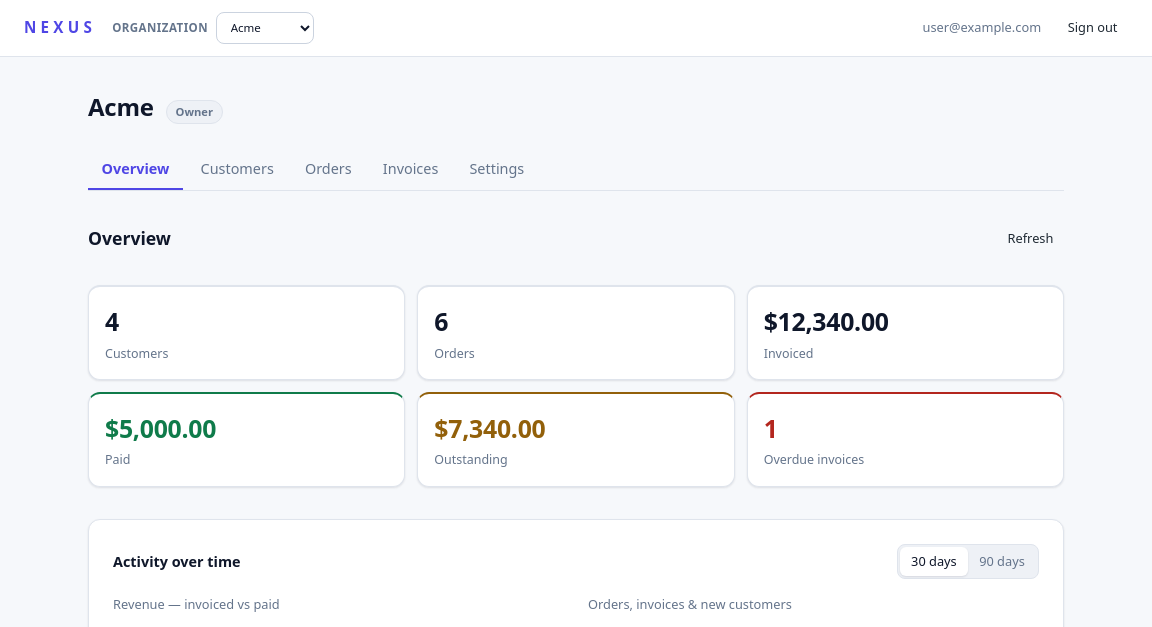
a manual Refresh started for one organization cannot overwrite another after a switch
Check: the text "$12,340.00" is shown, box [764,304,889,338]
Click the button "Refresh" at (1030,238), box [997,223,1064,253]
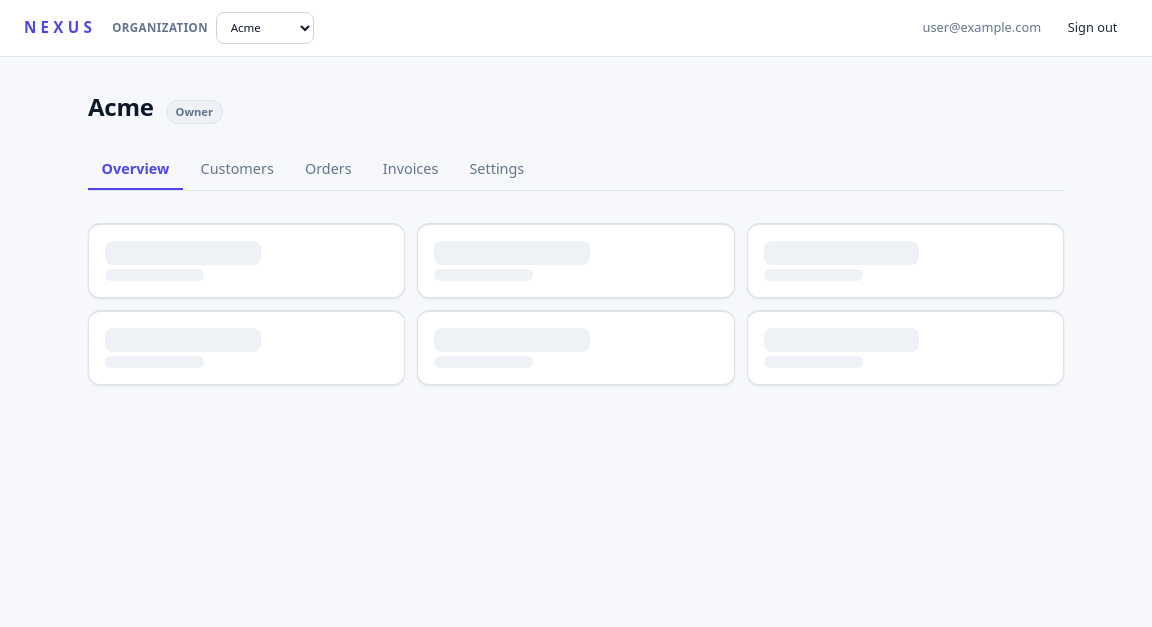
Select "Beedle" in the dropdown labelled "Organization" at (265,28), box [216,12,314,44]
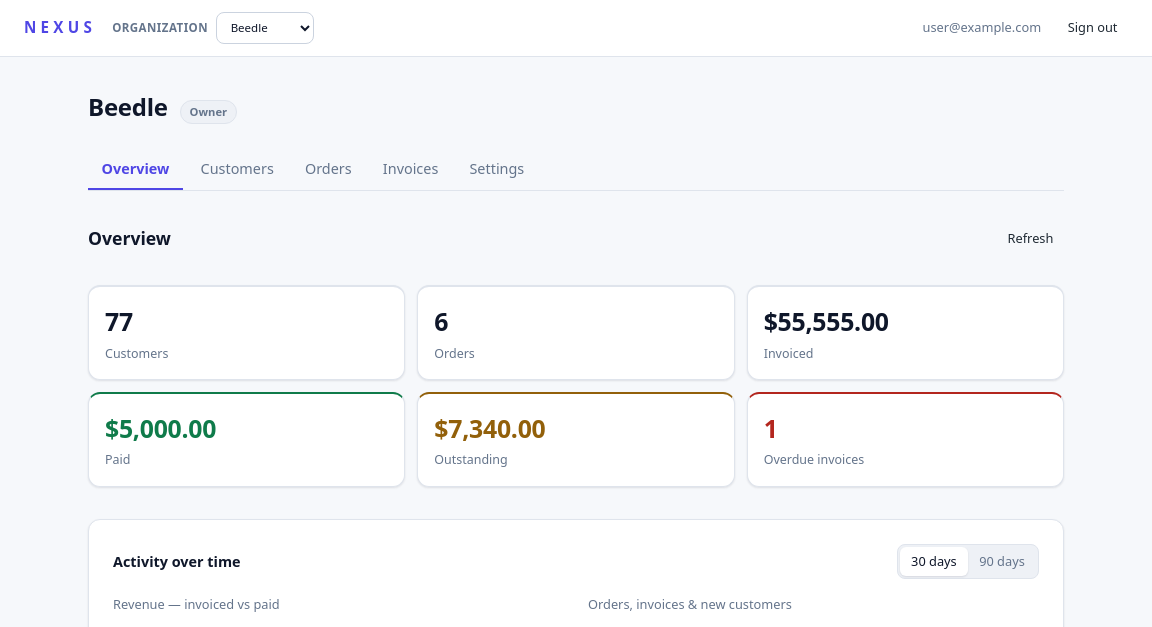
Check: the text "$12,340.00" is not shown
Check: the text "77" is shown, box [105,304,133,338]
Check: the text "$55,555.00" is shown, box [764,304,889,338]
